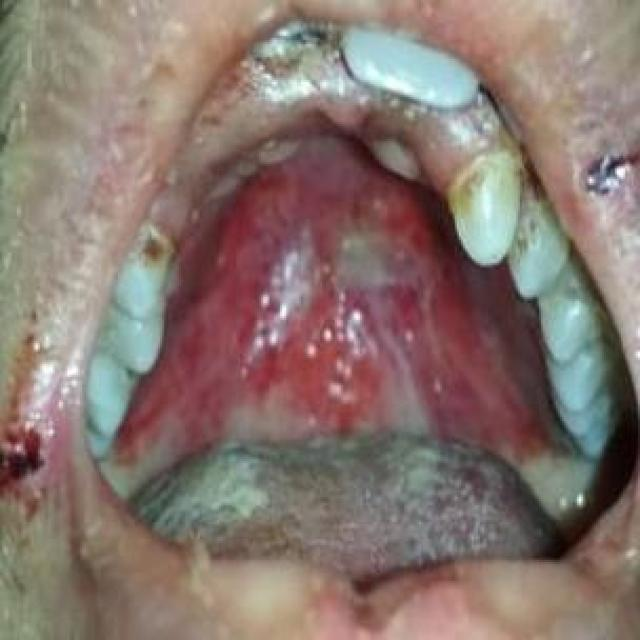cancer-detection: (125, 435, 277, 561), (201, 4, 345, 129), (0, 301, 71, 527), (365, 404, 473, 520), (571, 134, 638, 230)
processing_area: (0, 0, 638, 638)
